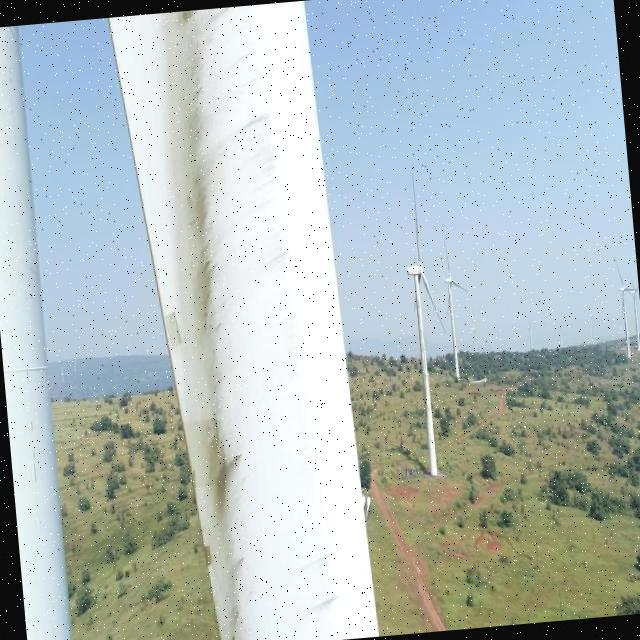Dirt: (172, 1, 343, 640)
